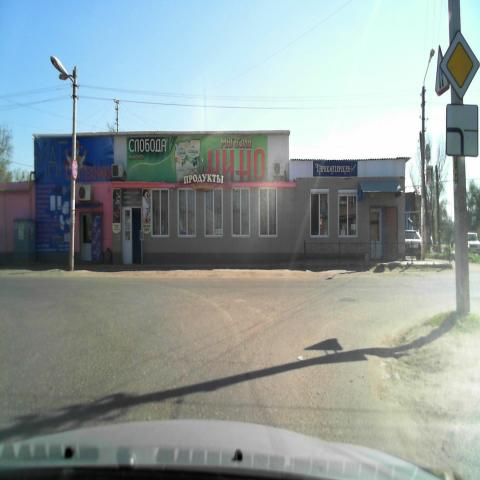8_13: (446, 101, 480, 158)
